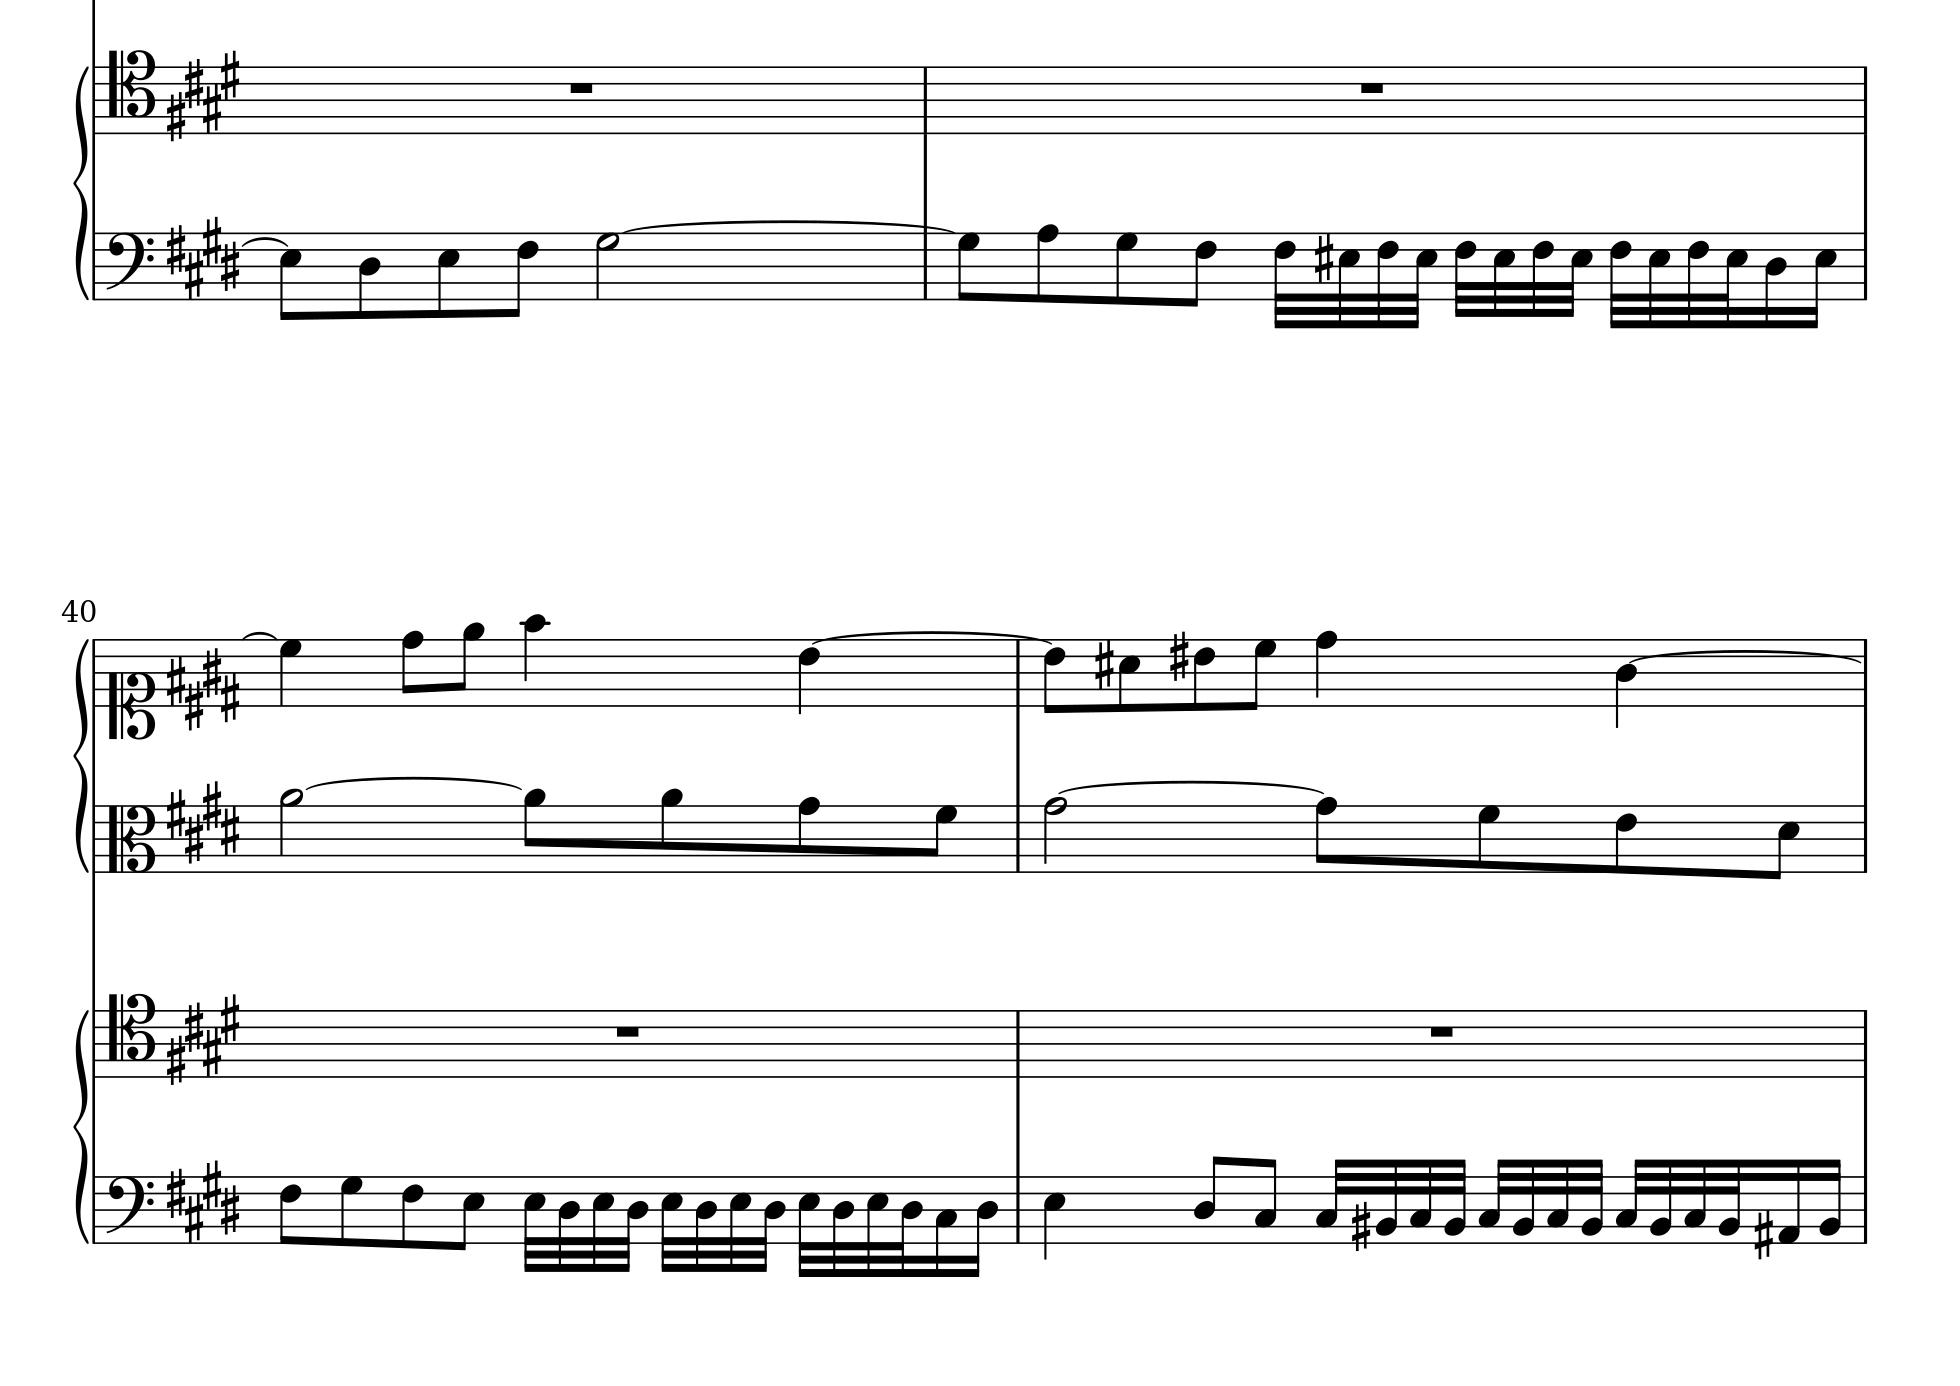0: (79, 597, 96, 624)
16_1: (1777, 1156, 1803, 1245)
16_2: (1818, 1156, 1843, 1245)
16_3: (931, 1173, 957, 1278)
16_4: (967, 1173, 999, 1278), (1762, 229, 1788, 330)
16_5: (1806, 229, 1839, 328)
2_7: (592, 229, 621, 301)
2_8: (1041, 793, 1068, 874)
2_9: (277, 787, 303, 874)
32_2: (1443, 1155, 1467, 1245), (1512, 1156, 1536, 1245), (1581, 1155, 1605, 1243), (1374, 1156, 1398, 1243), (1650, 1156, 1672, 1243), (1719, 1156, 1741, 1243)
32_3: (1314, 1156, 1344, 1243), (1614, 1156, 1644, 1243), (1477, 1156, 1506, 1243), (1410, 1156, 1434, 1243), (1546, 1156, 1570, 1243), (1684, 1156, 1707, 1243)
32_4: (619, 1173, 649, 1273), (756, 1173, 786, 1273), (894, 1173, 922, 1278), (829, 1174, 855, 1279), (556, 1174, 580, 1273), (693, 1174, 717, 1273)
32_5: (1410, 229, 1443, 328), (1719, 229, 1749, 330), (1566, 231, 1599, 319), (795, 1173, 820, 1279), (864, 1171, 889, 1278), (1492, 229, 1521, 319), (1647, 229, 1672, 330), (520, 1173, 546, 1273), (589, 1171, 613, 1273), (658, 1171, 682, 1273), (727, 1173, 751, 1273), (1338, 231, 1362, 330)
32_6: (1530, 231, 1566, 321), (1452, 229, 1486, 319), (1377, 229, 1402, 330), (1273, 231, 1297, 331), (1608, 229, 1632, 330), (1686, 229, 1710, 328)
4: (60, 597, 78, 624)
4_10: (520, 612, 547, 708)
4_4: (1614, 636, 1639, 729)
4_5: (1042, 1173, 1066, 1261)
4_6: (796, 637, 820, 715)
4_7: (276, 637, 301, 708)
4_8: (1314, 628, 1338, 708)
8_3: (1252, 1156, 1278, 1245)
8_4: (1192, 1153, 1225, 1243), (355, 229, 382, 319)
8_5: (1767, 802, 1800, 880), (451, 1174, 484, 1252), (433, 229, 460, 319), (277, 229, 301, 322), (1116, 636, 1141, 712)
8_6: (504, 229, 538, 319), (1182, 229, 1216, 307), (1041, 636, 1068, 715), (400, 1173, 424, 1251), (277, 1174, 303, 1246), (1192, 634, 1215, 712), (1614, 802, 1638, 874)
8_7: (1245, 634, 1276, 709), (925, 802, 958, 873), (1113, 229, 1140, 307), (339, 1174, 364, 1248), (955, 229, 981, 301), (1474, 802, 1500, 874)
8_8: (1035, 222, 1060, 306), (1312, 793, 1338, 874), (399, 628, 424, 708), (796, 793, 820, 874)
8_9: (451, 619, 484, 706), (520, 786, 546, 874), (658, 787, 682, 874)
Brace: (70, 1006, 91, 1245), (70, 63, 90, 301), (72, 637, 91, 871)
Cclef: (103, 802, 157, 874)
E_S: (163, 991, 243, 1084), (163, 49, 243, 141), (163, 1158, 241, 1243), (165, 643, 241, 730), (165, 214, 241, 298), (166, 778, 241, 864)
Fclef: (103, 229, 156, 303), (103, 1173, 154, 1246)
Rests1: (564, 76, 597, 97), (610, 1021, 643, 1039), (1357, 76, 1389, 94), (1426, 1021, 1458, 1039)
Sharp: (1092, 637, 1116, 691), (1167, 628, 1191, 682), (1314, 231, 1335, 283), (1351, 1200, 1371, 1252), (1753, 1207, 1773, 1260)
Single_barline: (1005, 1009, 1032, 1075), (912, 66, 937, 133), (913, 232, 937, 300), (1008, 640, 1030, 706), (1009, 802, 1030, 871), (1854, 1009, 1875, 1077), (1854, 1176, 1875, 1243), (1854, 232, 1875, 298), (1008, 1174, 1029, 1240), (1857, 66, 1875, 133), (1857, 804, 1875, 871), (1857, 637, 1873, 706), (88, 802, 103, 873), (88, 64, 103, 133), (88, 231, 103, 298), (88, 1009, 103, 1077), (88, 1174, 102, 1243), (88, 639, 102, 706)
Slur: (240, 235, 289, 247), (241, 630, 277, 640)
Soprano_Cclef: (106, 637, 154, 742)
Tensor_Cclef: (105, 48, 157, 136), (106, 991, 157, 1080)
